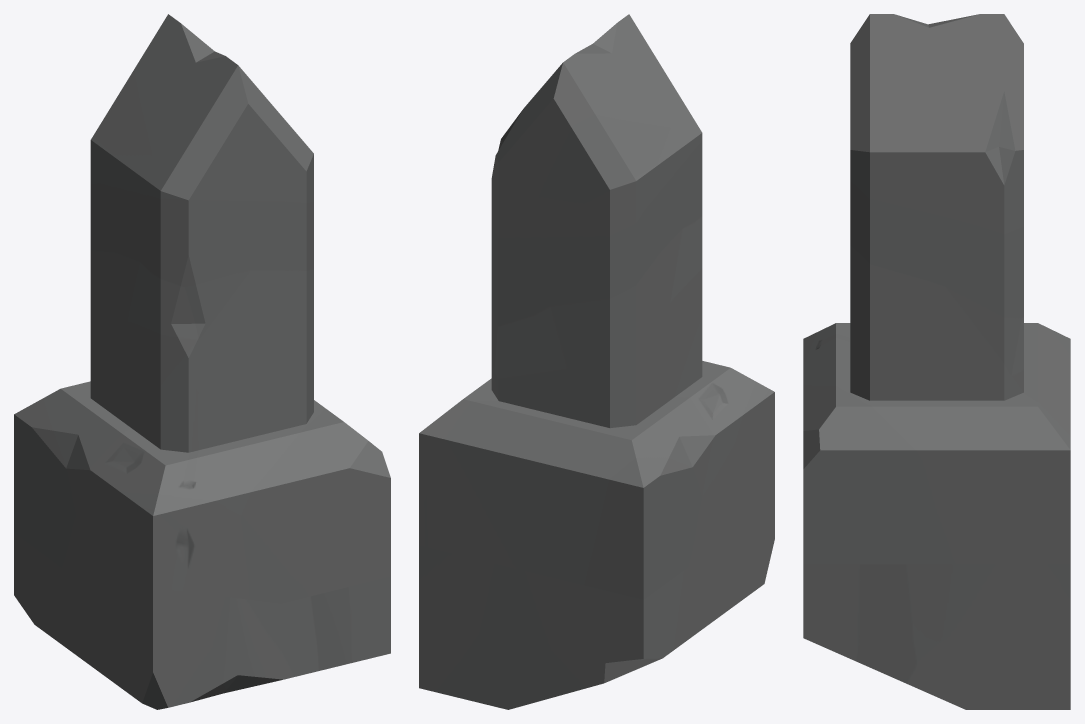
Rendered from SM_Bld_Battlements_End_02.fbx.
3 renders of one model, left to right at view 1: azimuth 30°, elevation 25°; view 2: azimuth 150°, elevation 25°; view 3: azimuth 270°, elevation 25°, orthographic. The views are drawn at different scales.
Visible parts, largest first — view 1: SM_Bld_Battlements_End_02; view 2: SM_Bld_Battlements_End_02; view 3: SM_Bld_Battlements_End_02.
Boxes of the visible parts, x1=… form: SM_Bld_Battlements_End_02: x1=14, y1=14, x2=390, y2=709; SM_Bld_Battlements_End_02: x1=419, y1=14, x2=774, y2=709; SM_Bld_Battlements_End_02: x1=803, y1=14, x2=1070, y2=709.
Bounding box in the file's own units: 97.24 × 260 × 98.5.
